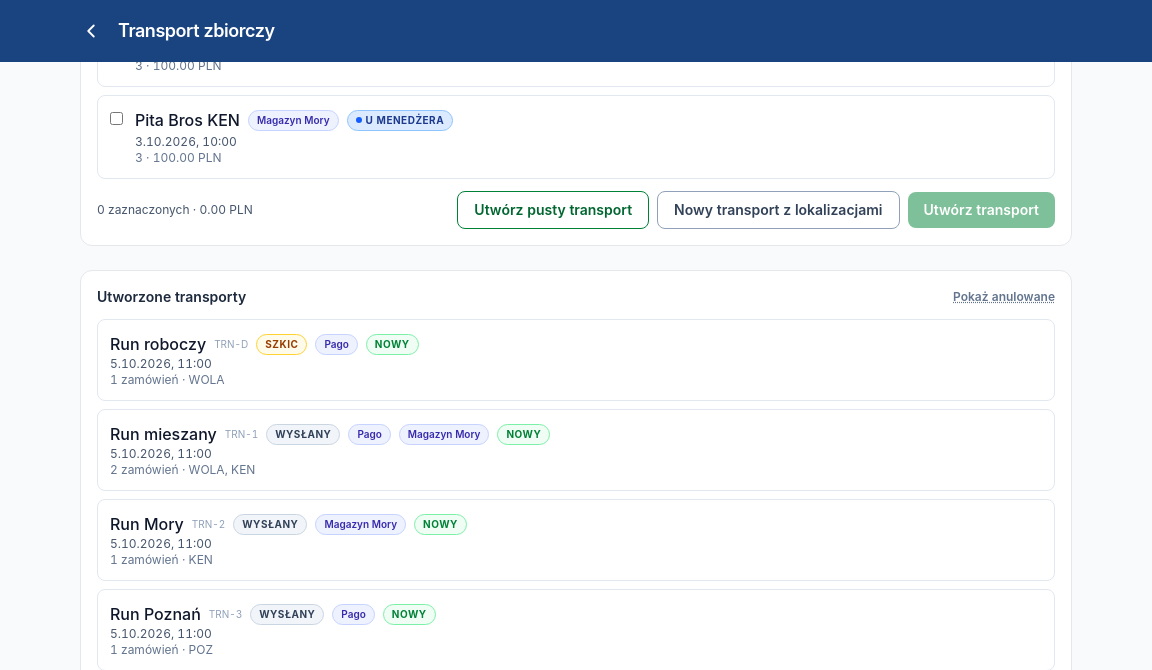
Test: TransportPage — send panel wiring › unsaved logistics disable both sends with their own reason until saved
The image size is (1152, 670).
(page scrolled)
Click the button "Run roboczy" at {"x": 158, "y": 344}, box [97,319,1055,401]
(page scrolled)
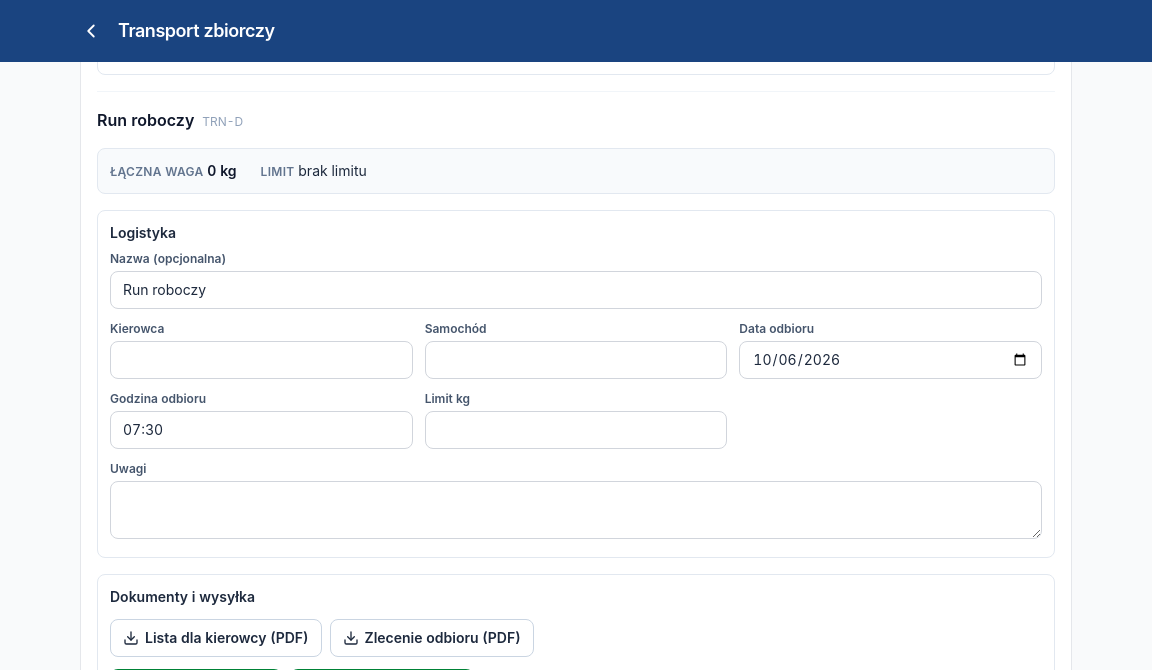
Type "Adam Nowak" into the field labelled "Kierowca" at {"x": 261, "y": 360}, box [110,341,413,379]
(page scrolled)
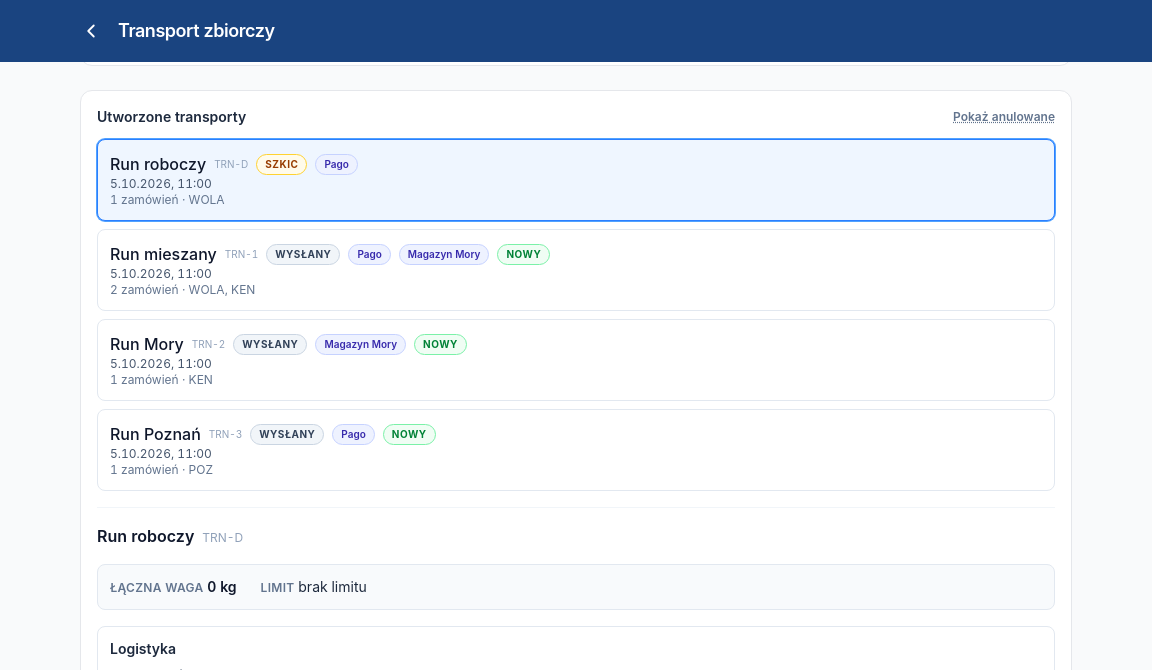
Click the button "Run Mory" at {"x": 147, "y": 344}, box [97,319,1055,401]
(page scrolled)
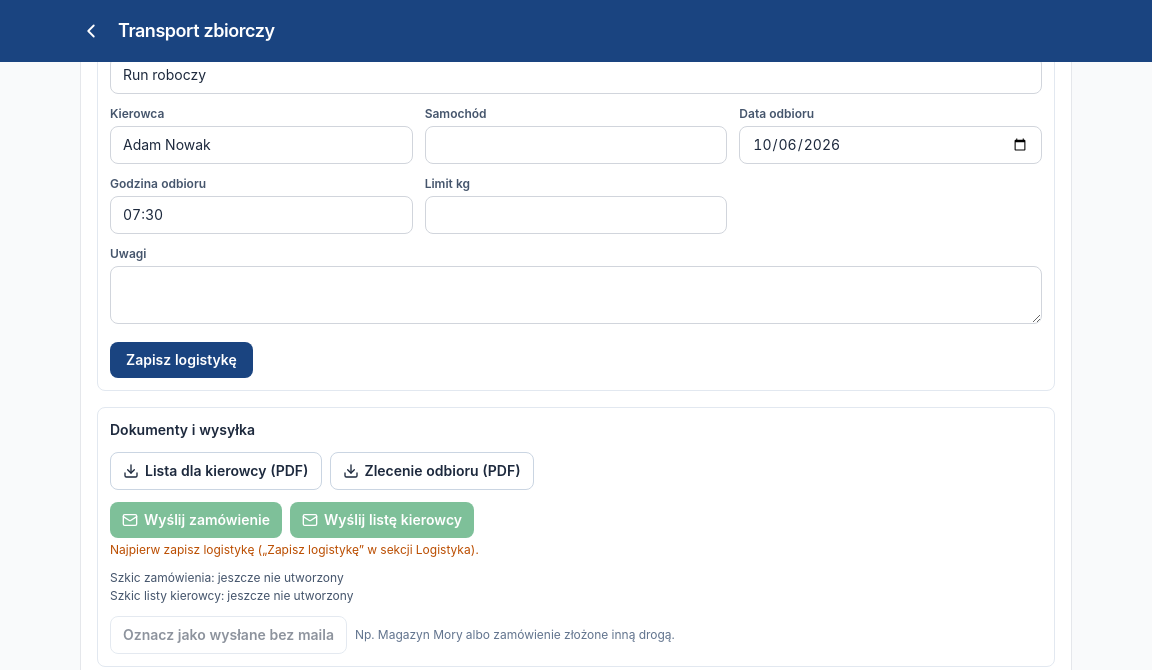
Click the button "Zapisz logistykę" at {"x": 181, "y": 360}, box [110,342,253,378]
(page scrolled)
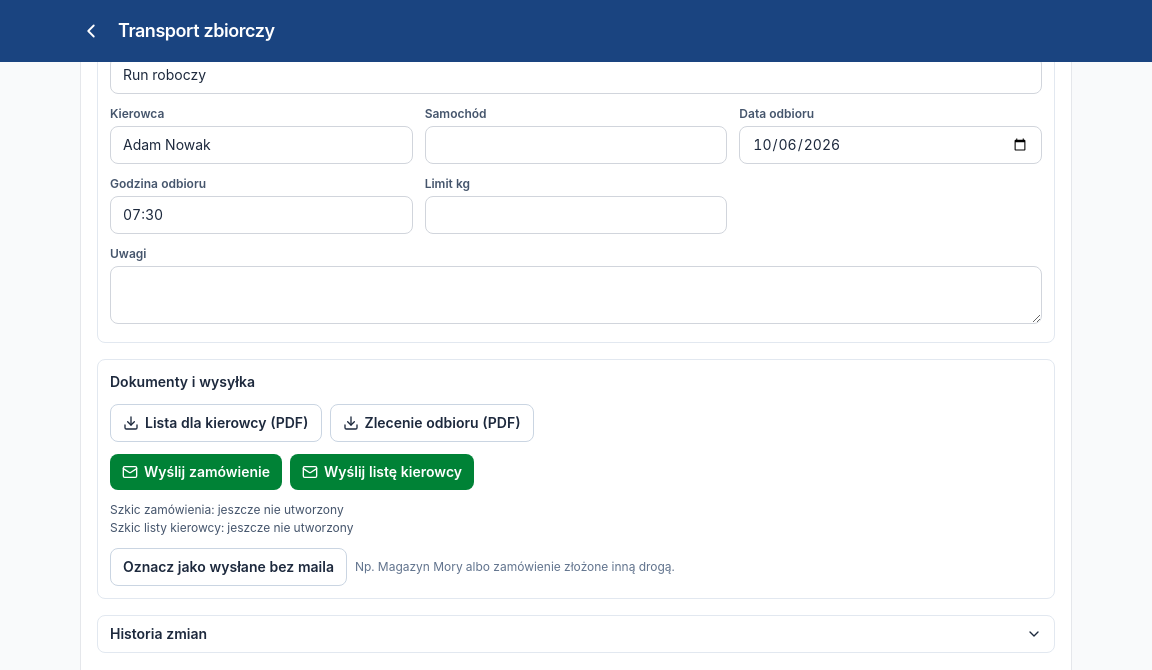
Now the button "Wyślij zamówienie" is enabled, box [110,454,282,490]
Now the button "Wyślij listę kierowcy" is enabled, box [290,454,474,490]
Now the list item "Najpierw zapisz logistykę („Zapisz logistykę” w sekcji Logistyka)." is gone
